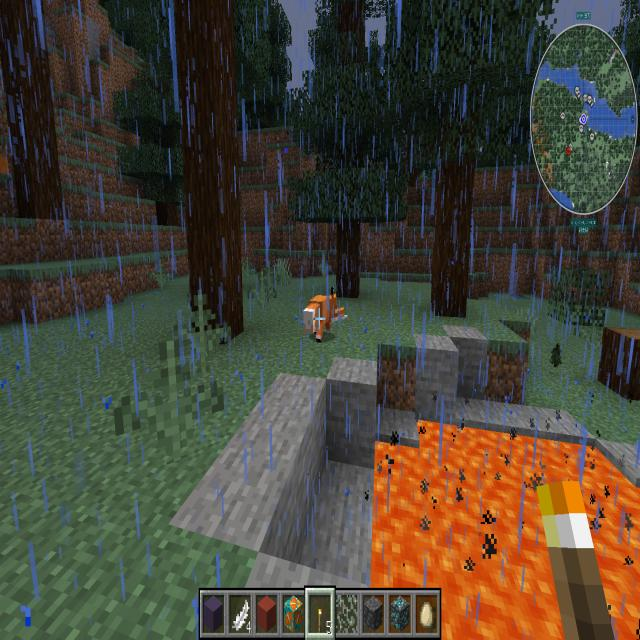Fox: (300, 284, 349, 358)
